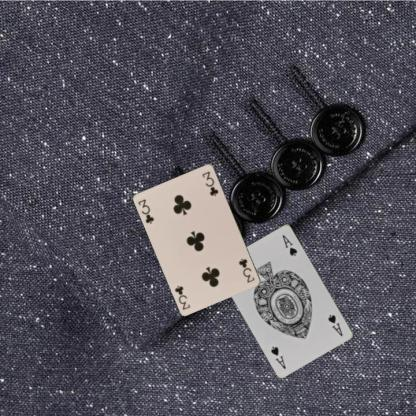3c: (135, 196, 156, 226), (236, 256, 256, 284)
As: (324, 312, 344, 337)
